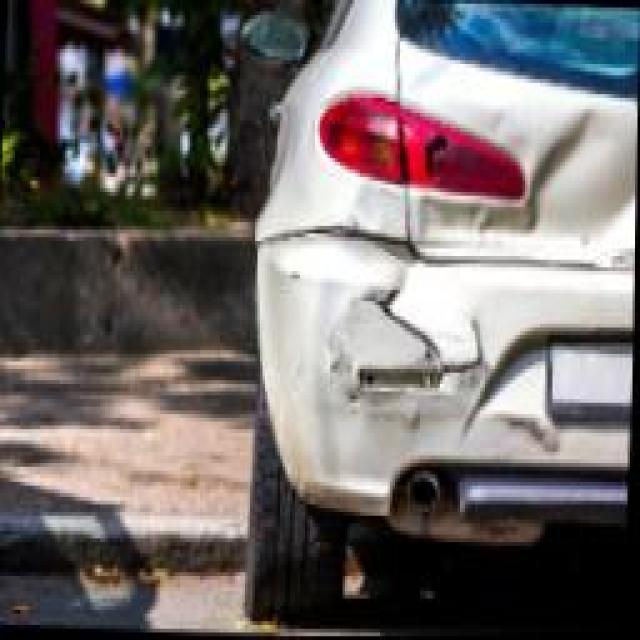Bumper: (218, 237, 637, 550)
Dickey: (522, 79, 638, 276)
Light: (395, 102, 534, 201)
